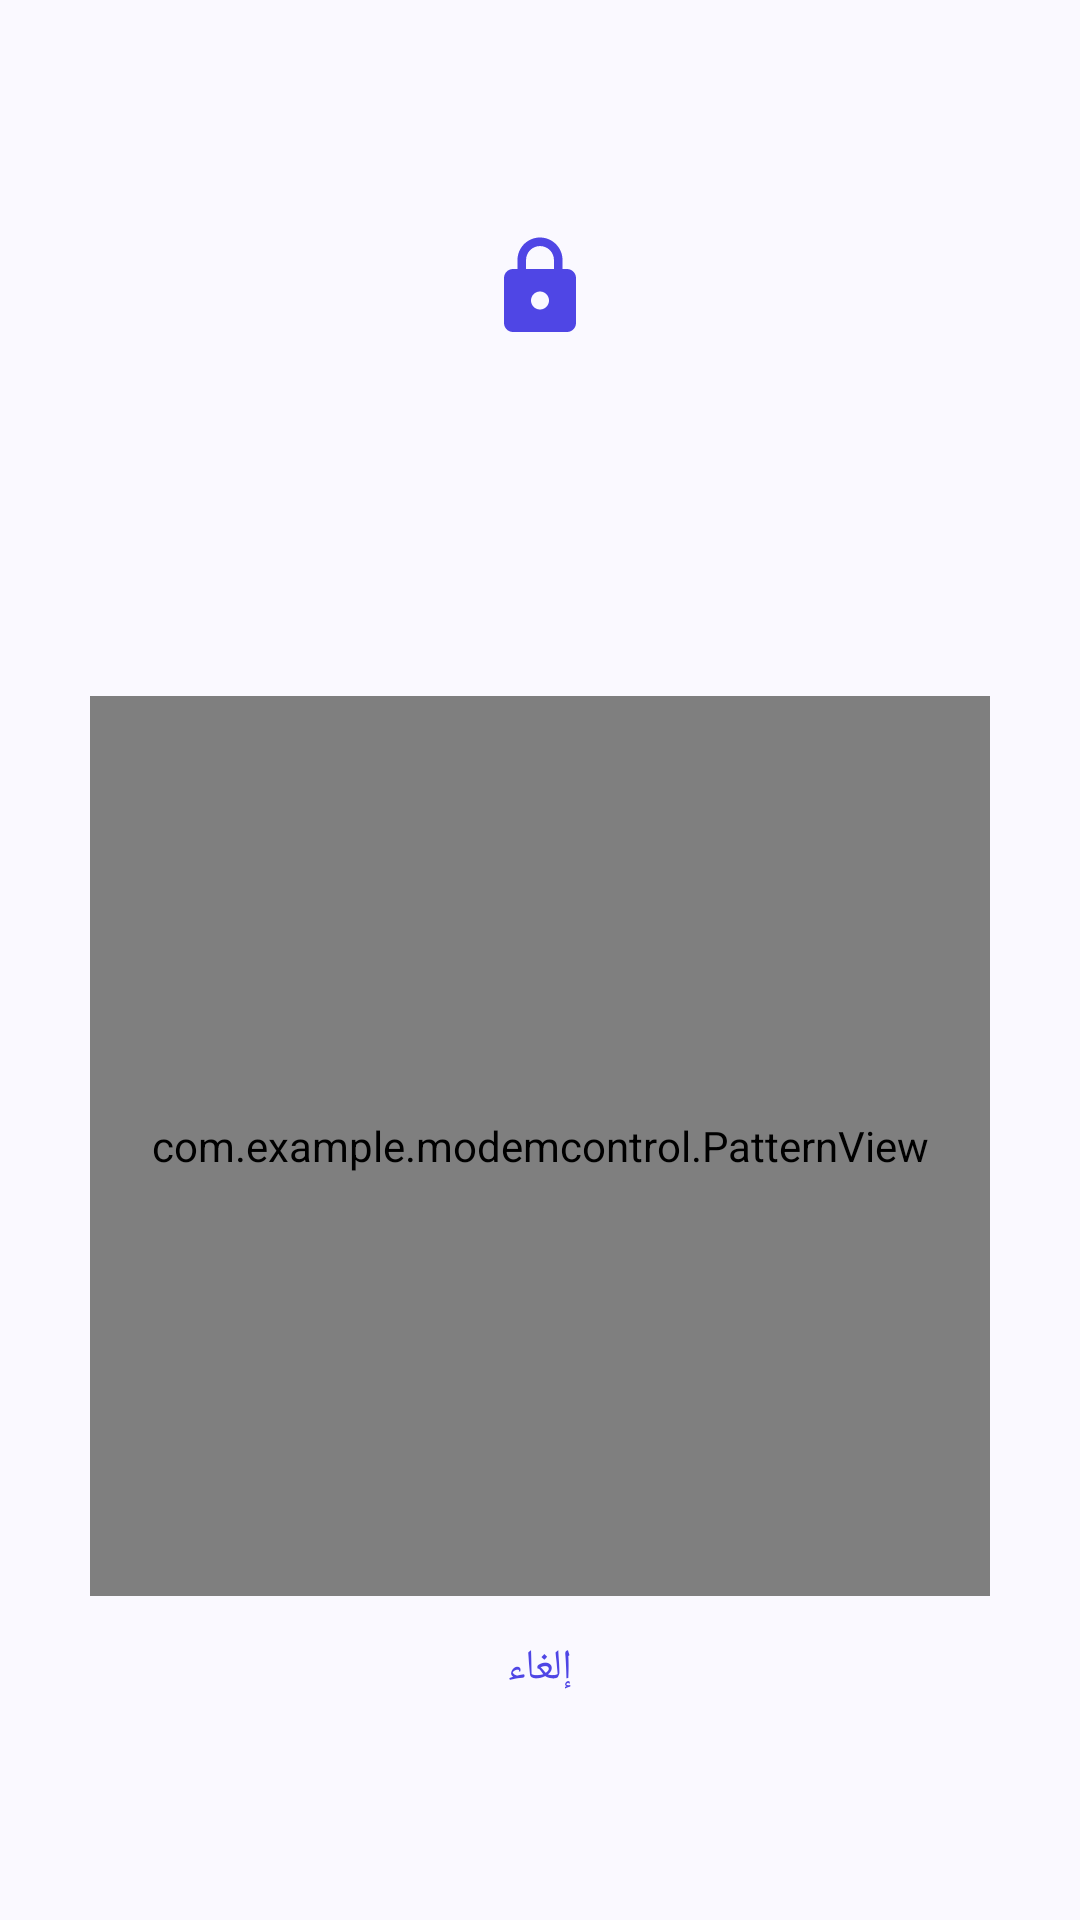

Named icons in this screenshot (1080px×1920px) and their bounding boxes, (x1, y1, x2, y2):
lock: (504, 237, 576, 332)
